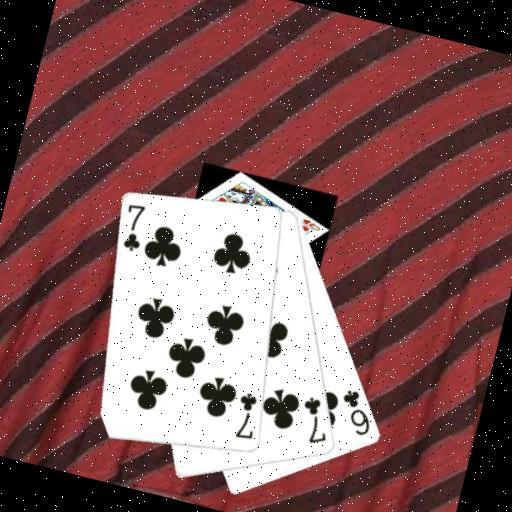6C: (332, 385, 381, 440)
7C: (292, 392, 338, 449), (228, 389, 266, 444), (115, 199, 152, 255)
